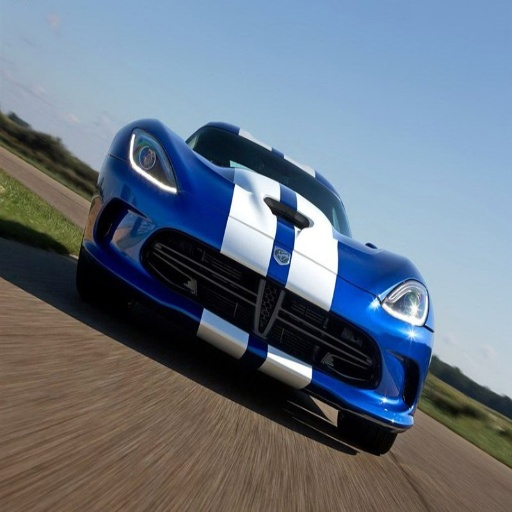back_bumper: (286, 258, 393, 333)
